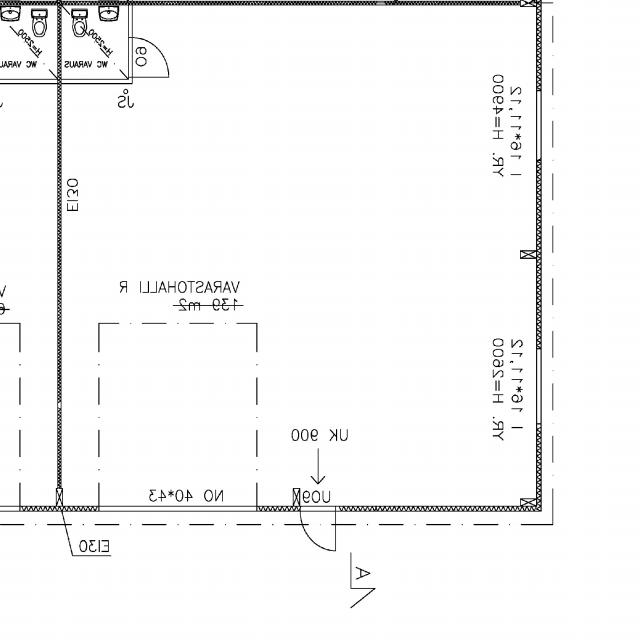door: (128, 38, 168, 78), (300, 506, 336, 550)
